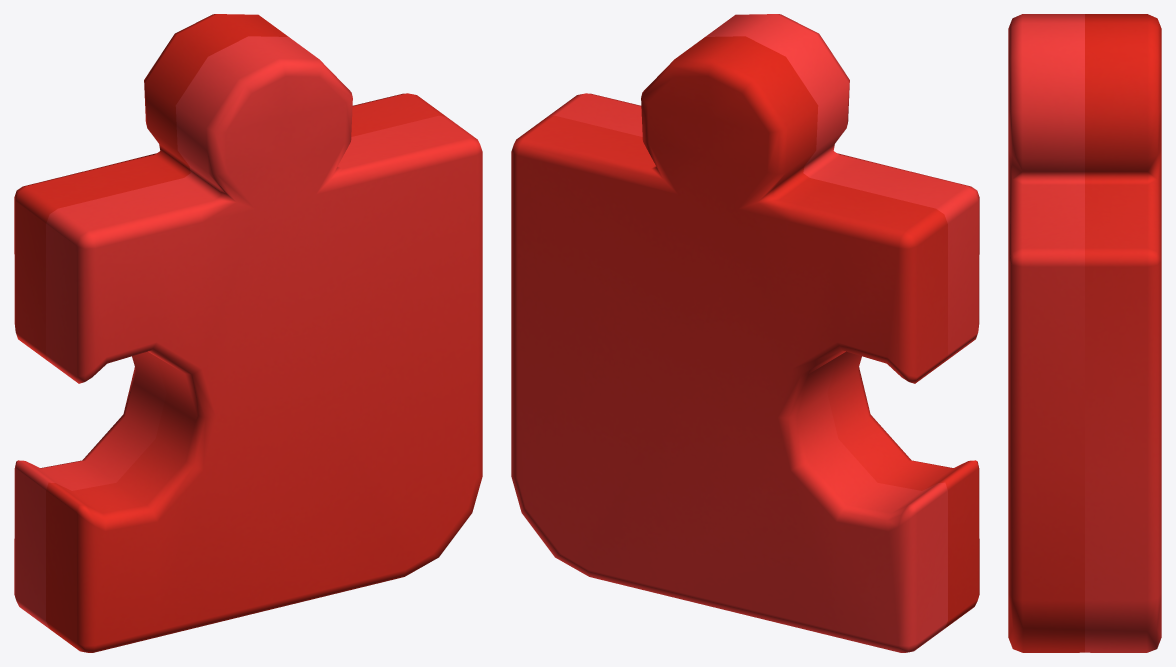
File: PuzzlePieceRed.fbx
3 views of the same model, side by side, from view 1: azimuth 30°, elevation 25°; view 2: azimuth 150°, elevation 25°; view 3: azimuth 270°, elevation 25° (orthographic). The views are drawn at different scales.
Parts seen in each view (by area): view 1: PuzzlePieceRed; view 2: PuzzlePieceRed; view 3: PuzzlePieceRed.
Part boxes in pixels (box(x1,y1,x2,y2)): PuzzlePieceRed: box(14, 14, 482, 652); PuzzlePieceRed: box(511, 14, 979, 652); PuzzlePieceRed: box(1008, 14, 1161, 652).
Bounding box in the file's own units: 79.04 × 102 × 25.25.
